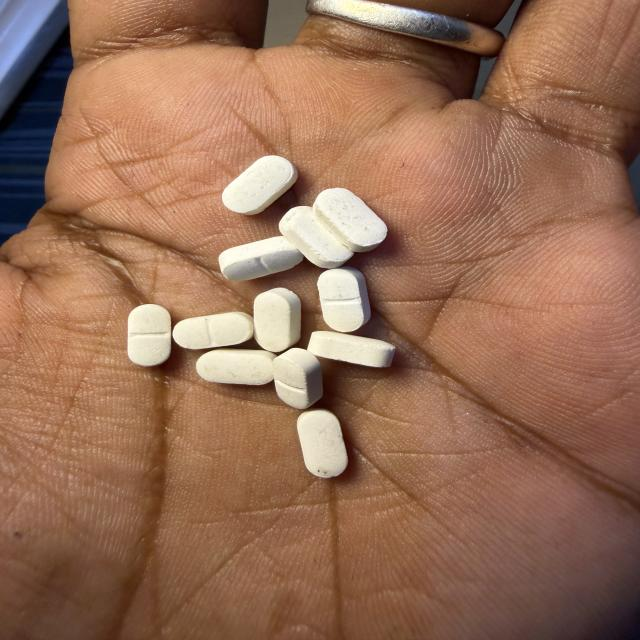pill: (313, 188, 387, 252), (279, 207, 353, 268), (222, 156, 297, 215), (219, 237, 303, 280), (318, 267, 370, 331), (298, 410, 347, 477), (308, 332, 395, 367), (254, 288, 301, 352), (173, 312, 253, 349), (274, 348, 322, 409), (197, 349, 275, 385), (128, 304, 171, 366)
